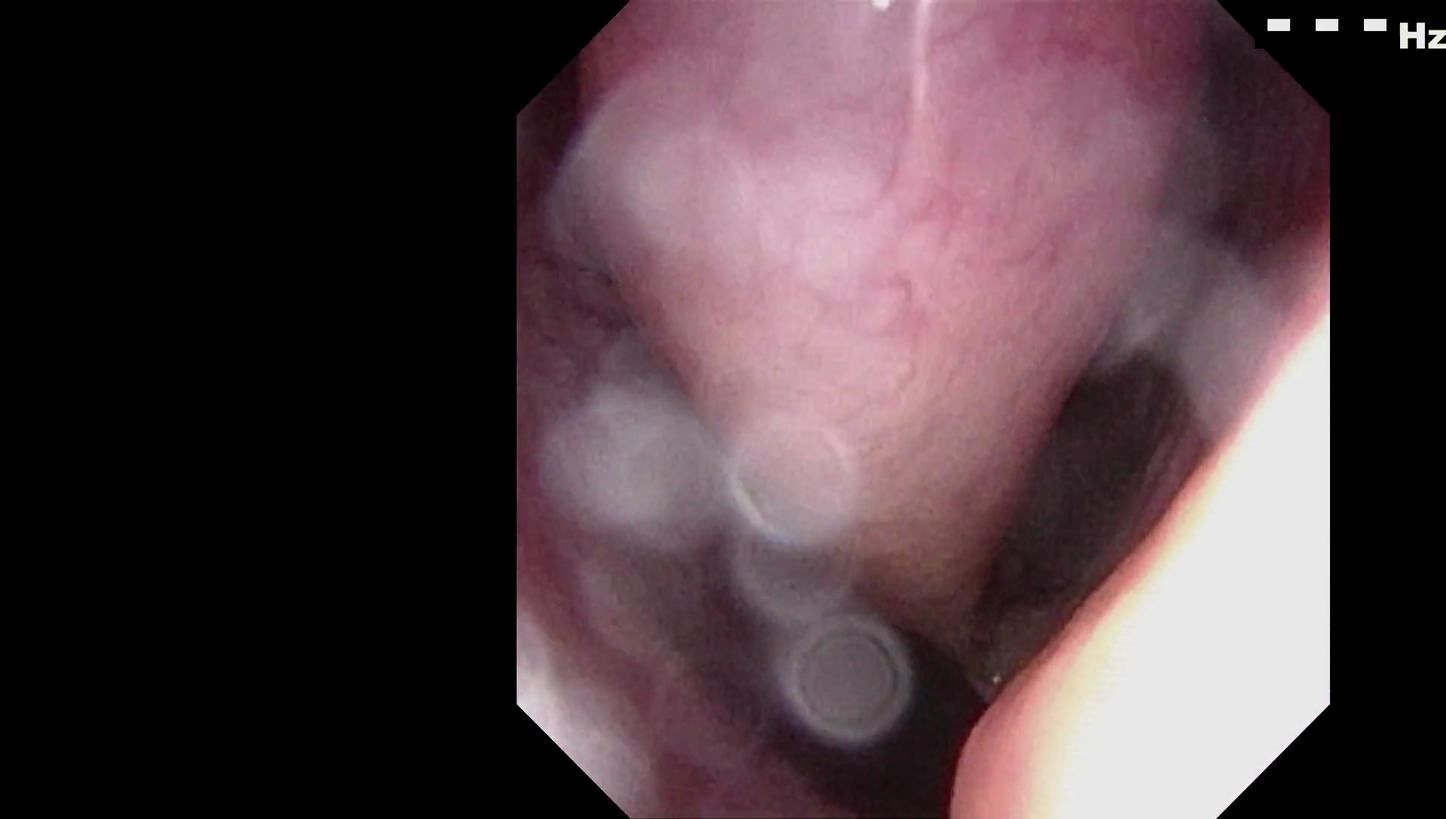close_wall: (1020, 370, 1321, 819)
next: (983, 318, 1208, 656), (739, 546, 1007, 819)
